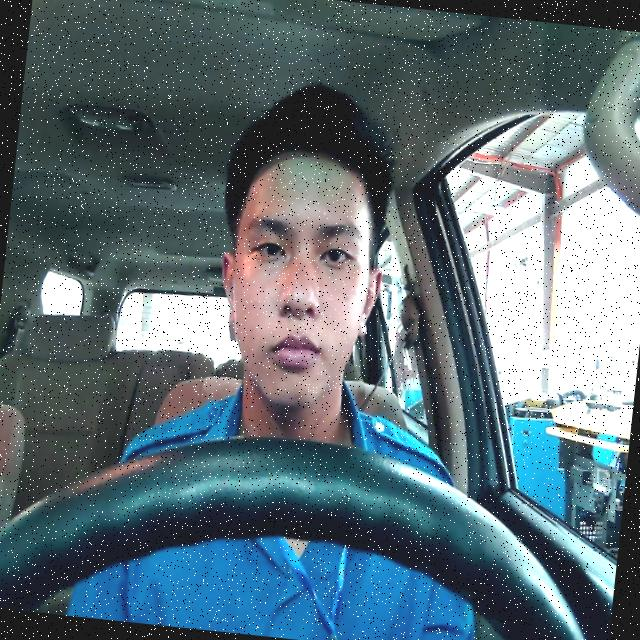focused: (205, 143, 394, 416)
